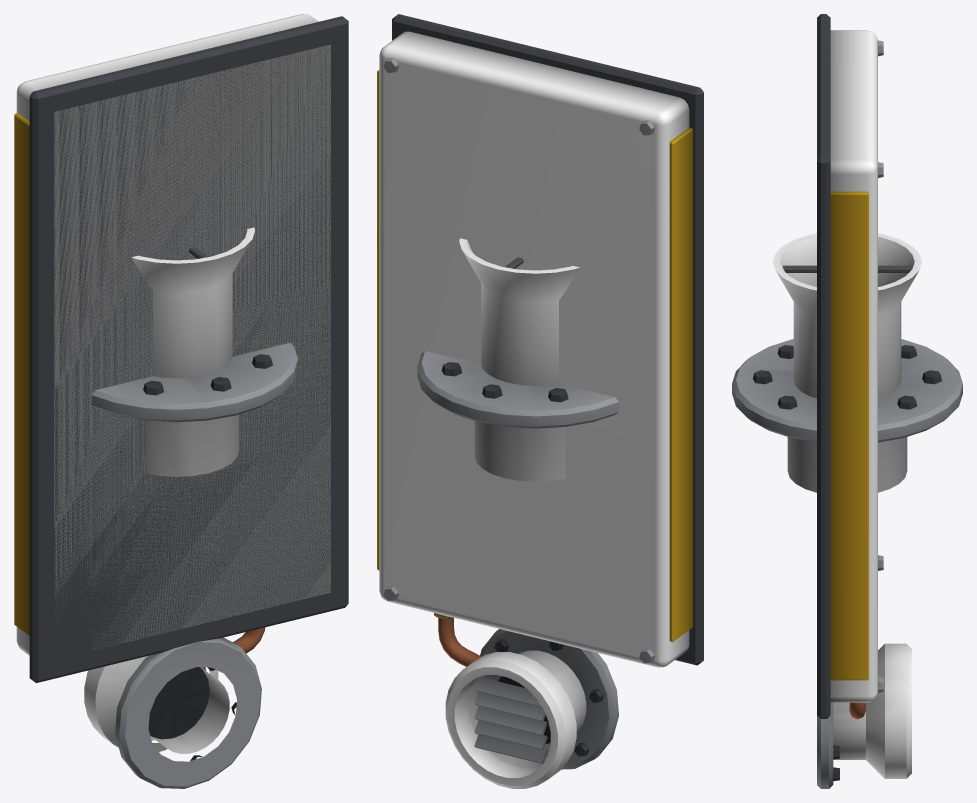
The model's file is valvula_venteo.glb.
3 views of the same model, side by side, from view 1: azimuth 30°, elevation 25°; view 2: azimuth 150°, elevation 25°; view 3: azimuth 270°, elevation 25° (orthographic). The views are drawn at different scales.
Visible parts, largest first — view 1: placa_a, cuerpo; view 2: placa_a, cuerpo; view 3: placa_a, cuerpo.
Part boxes in pixels (x1,y1,x2,y2): placa_a: (14,14,348,788); cuerpo: (91,227,297,476); placa_a: (377,14,703,788); cuerpo: (417,238,618,481); placa_a: (817,14,911,788); cuerpo: (732,233,962,492).
Bounding box in the file's own units: 0.256 × 0.5658 × 0.17.
